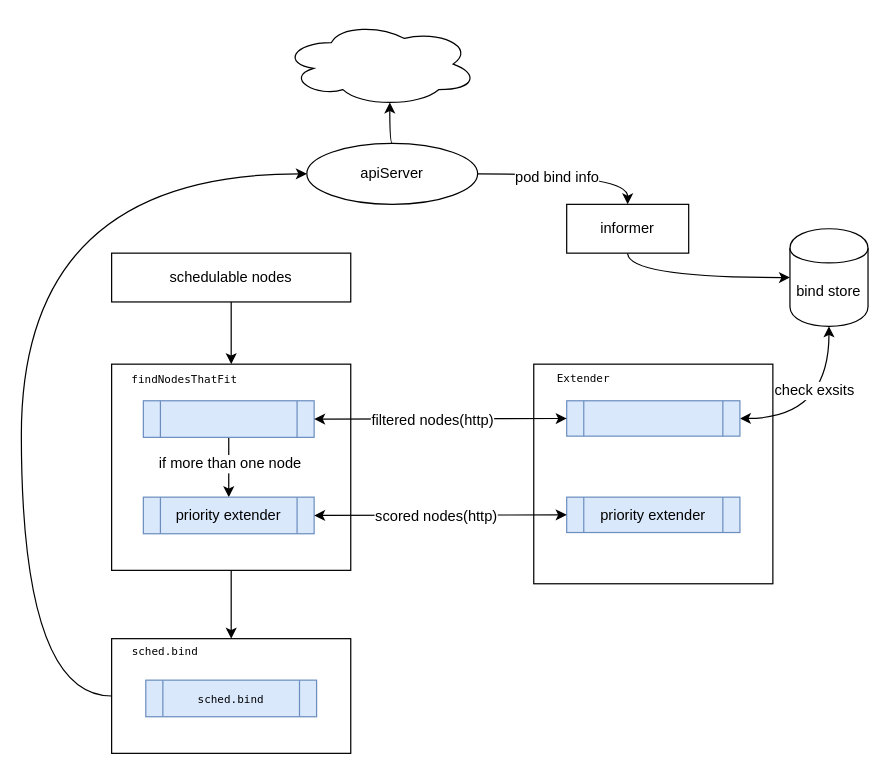
Some shapes in this 889 by 775 pixel diagram are drawn without their labels. The shapes that lost their labels are listed below. From the top down, each one's centre as x and y in pixels, then its label:
pixel 379 63: etcd cluster
pixel 228 418: predicates filter
pixel 652 418: predicate extender
